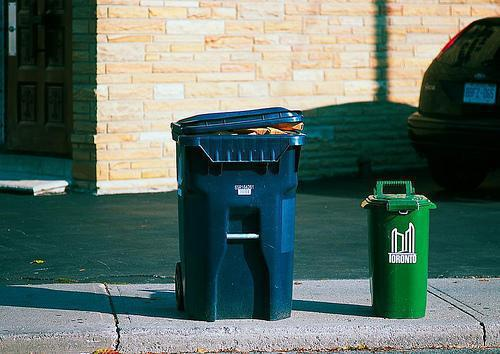Bote de Basura: (173, 108, 300, 315), (367, 180, 429, 315)
